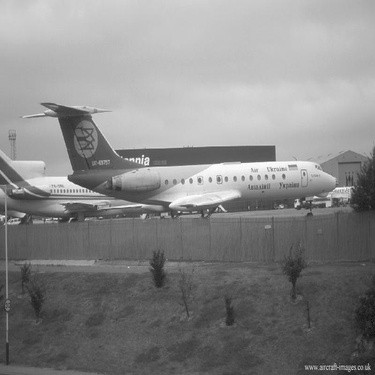airplane: (12, 97, 344, 219), (6, 146, 165, 221)
